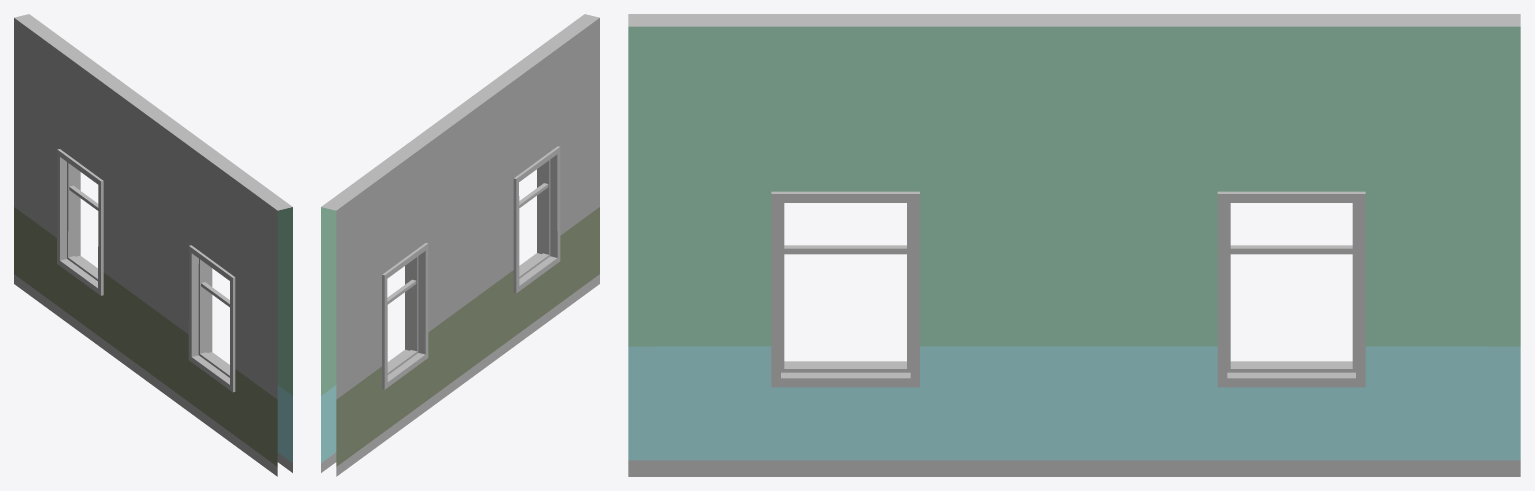
Rendered from SM_Wall_Window_A_600.fbx.
The picture shows the model from 3 angles, left to right: view 1: azimuth 30°, elevation 25°; view 2: azimuth 150°, elevation 25°; view 3: azimuth 270°, elevation 25°; orthographic projection. The views are drawn at different scales.
Visible parts, largest first — view 1: SM_Wall_Window_A_600; view 2: SM_Wall_Window_A_600; view 3: SM_Wall_Window_A_600.
Part boxes in pixels (<box>): SM_Wall_Window_A_600: <box>14,14,292,476</box>; SM_Wall_Window_A_600: <box>321,14,599,476</box>; SM_Wall_Window_A_600: <box>628,14,1520,476</box>.
Bounding box in the file's own units: 27.27 × 334 × 600.
